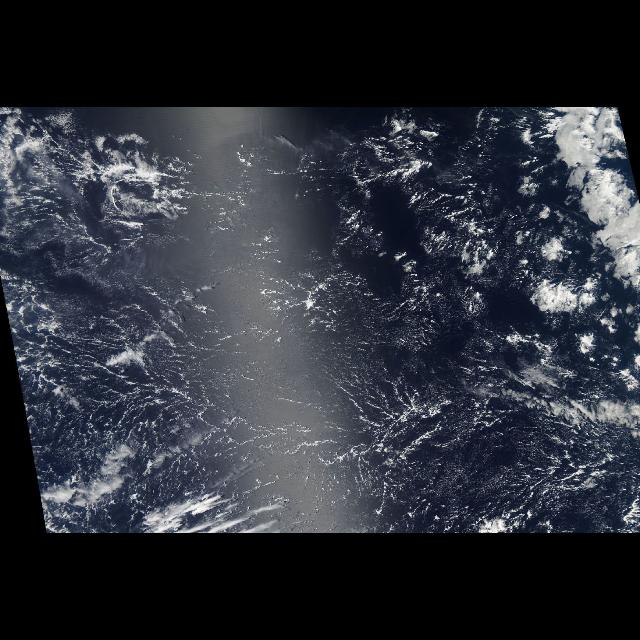Flower: (476, 118, 640, 326)
Sugar: (22, 173, 614, 522)
